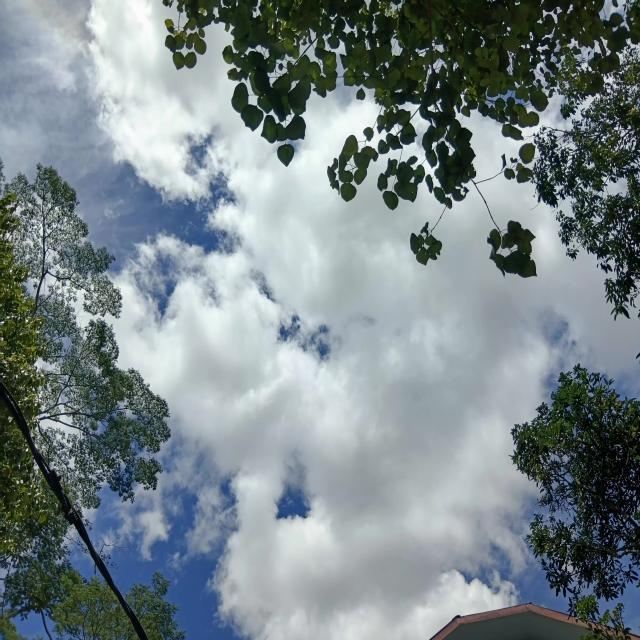cumulus: (177, 282, 511, 577)
